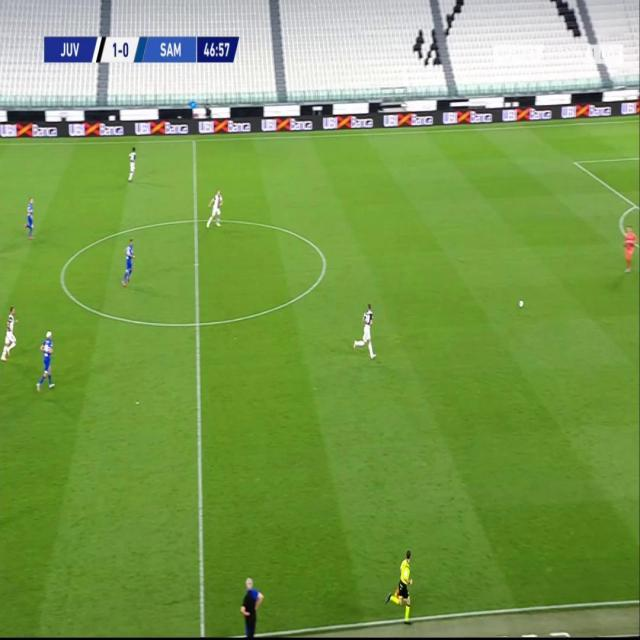ball: (518, 296, 525, 309)
goalkeeper: (622, 222, 636, 277)
player: (353, 300, 377, 360), (35, 328, 56, 394), (0, 303, 19, 363), (206, 187, 225, 232), (122, 237, 137, 287), (22, 195, 35, 241), (127, 145, 138, 183)
referee: (386, 546, 416, 622)
